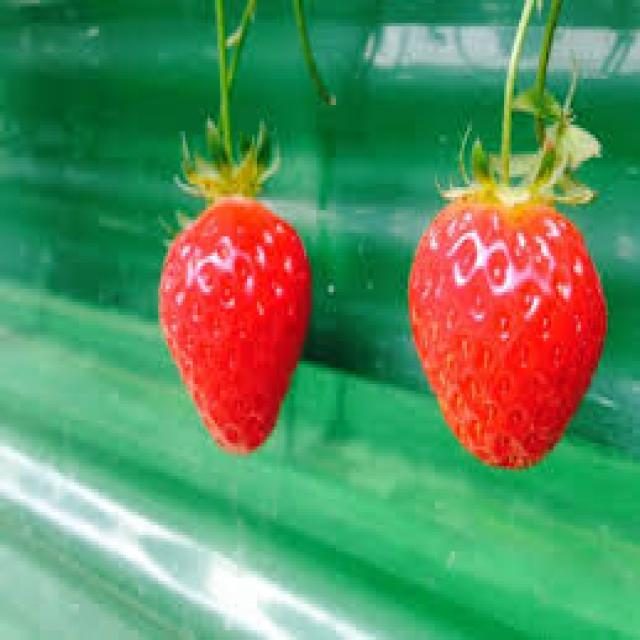mature: (407, 196, 608, 467), (160, 196, 312, 454)
